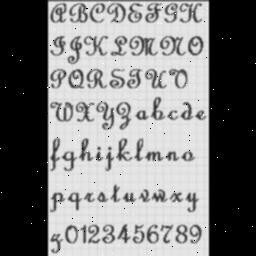b: (75, 1, 89, 23)
c: (88, 1, 106, 23)
d: (109, 2, 127, 24)
k: (84, 36, 110, 58)
u: (151, 68, 167, 90)
